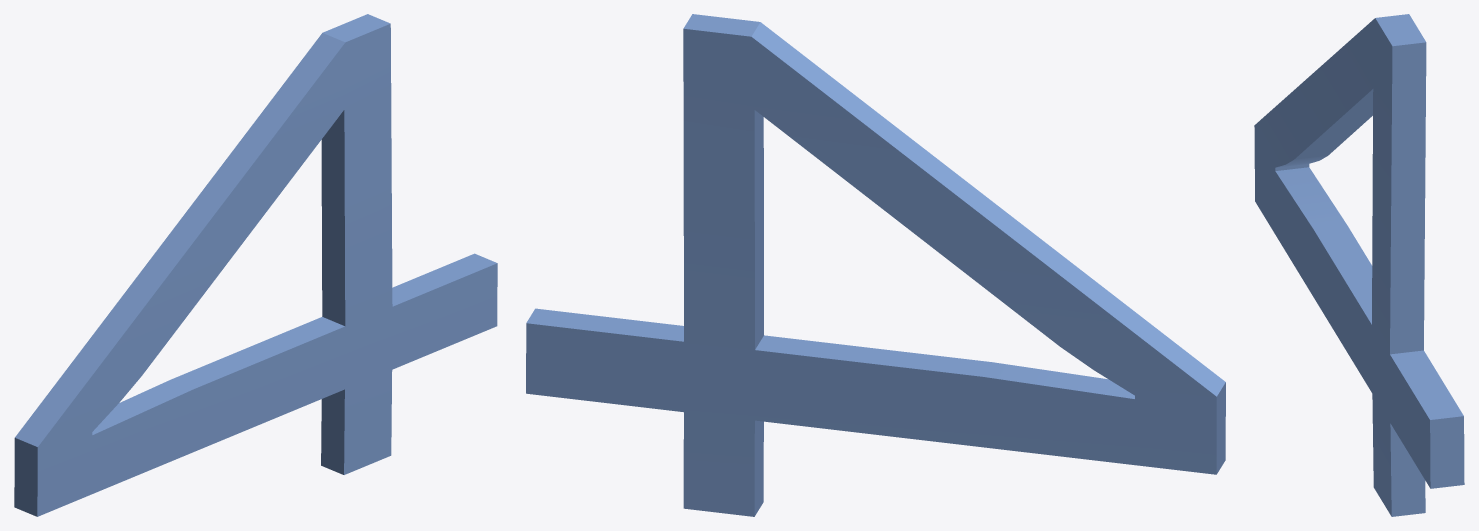
The model's file is Number_4.gltf.
3 views of the same model, side by side, from view 1: azimuth 30°, elevation 25°; view 2: azimuth 150°, elevation 25°; view 3: azimuth 270°, elevation 25° (orthographic). The views are drawn at different scales.
Parts seen in each view (by area): view 1: Sub_4_Cell_3_2_Number_4; view 2: Sub_4_Cell_3_2_Number_4; view 3: Sub_4_Cell_3_2_Number_4.
Boxes of the visible parts, x1,y1,x2,y2 form: Sub_4_Cell_3_2_Number_4: (14, 14, 497, 516); Sub_4_Cell_3_2_Number_4: (526, 14, 1225, 516); Sub_4_Cell_3_2_Number_4: (1254, 14, 1464, 516).
Size of the model in its own units: 0.0249 by 0.0187 by 0.00757.
